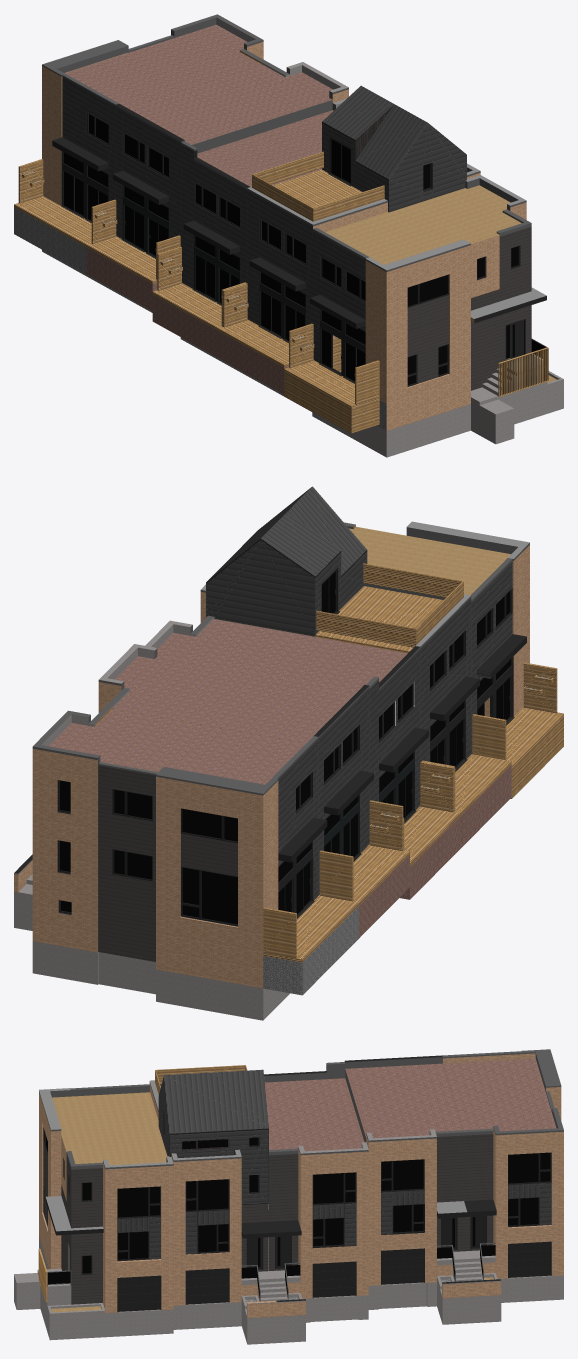
File: Houses3.FBX
The picture shows the model from 3 angles, top to bottom: view 1: azimuth 30°, elevation 25°; view 2: azimuth 150°, elevation 25°; view 3: azimuth 270°, elevation 25°; orthographic projection. The views are drawn at different scales.
Parts seen in each view (by area): view 1: Mesh28, Mesh07, Mesh17, Mesh12, Mesh24, fen_5pi104, Group1, Group_81_1, planche_27, Frame_2_5, Frame_2_2, Frame_2_6 (+9 smaller); view 2: Mesh17, Mesh07, Mesh12, Mesh24, Mesh28, fen_4pi_04, Group1, Group_36_2, Group_81_1, Mesh20, Group_36_3, Frame_2_6 (+9 smaller); view 3: Mesh28, Mesh07, Mesh17, Mesh12, Mesh24, fen_4pi_07, fen_8pi401, fen_4pi_01, fen_5pi104, fen_4pi_04, Mesh15, Mesh01 (+3 smaller).
Boxes of the visible parts, bbox=[...] form: Mesh28: bbox=[284, 175, 563, 457]; Mesh07: bbox=[218, 85, 480, 411]; Mesh17: bbox=[14, 14, 266, 291]; Mesh12: bbox=[87, 61, 348, 312]; Mesh24: bbox=[152, 98, 346, 375]; fen_5pi104: bbox=[320, 245, 525, 386]; Group1: bbox=[252, 151, 384, 221]; Group_81_1: bbox=[289, 323, 379, 404]; planche_27: bbox=[498, 347, 548, 396]; Frame_2_5: bbox=[121, 203, 168, 258]; Frame_2_2: bbox=[258, 289, 305, 342]; Frame_2_6: bbox=[61, 169, 108, 222]; Mesh17: bbox=[14, 705, 358, 1020]; Mesh07: bbox=[200, 486, 511, 847]; Mesh12: bbox=[29, 644, 409, 938]; Mesh24: bbox=[145, 615, 460, 899]; Mesh28: bbox=[344, 521, 563, 798]; fen_4pi_04: bbox=[57, 772, 312, 926]; Group1: bbox=[316, 563, 463, 647]; Group_36_2: bbox=[319, 800, 403, 901]; Group_81_1: bbox=[472, 662, 557, 759]; Mesh20: bbox=[180, 833, 237, 876]; Group_36_3: bbox=[403, 761, 454, 850]; Frame_2_6: bbox=[278, 857, 314, 918]; Mesh28: bbox=[14, 1084, 173, 1340]; Mesh07: bbox=[149, 1069, 276, 1344]; Mesh17: bbox=[442, 1049, 563, 1323]; Mesh12: bbox=[344, 1055, 471, 1324]; Mesh24: bbox=[264, 1062, 368, 1342]; fen_4pi_07: bbox=[275, 1172, 356, 1297]; fen_8pi401: bbox=[381, 1159, 457, 1284]; fen_4pi_01: bbox=[163, 1110, 263, 1269]; fen_5pi104: bbox=[43, 1127, 160, 1274]; fen_4pi_04: bbox=[508, 1152, 551, 1227]; Mesh15: bbox=[470, 1216, 551, 1278]; Mesh01: bbox=[185, 1268, 229, 1304].
Size of the model in its own units: 694 by 580 by 1241.
Materials: 27 (21 with a texture image).
